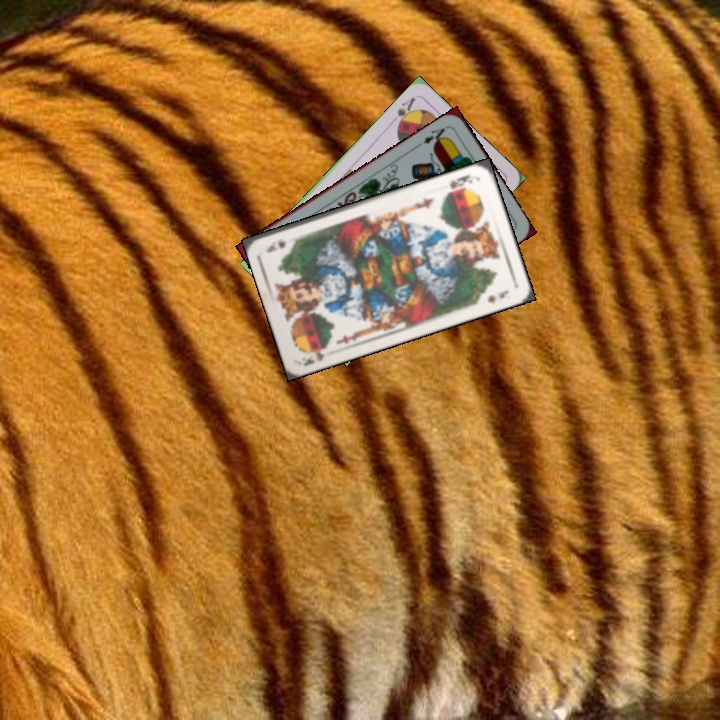EA: (419, 122, 450, 149)
SA: (393, 93, 418, 130)
SK: (299, 343, 329, 368), (446, 171, 475, 192)
